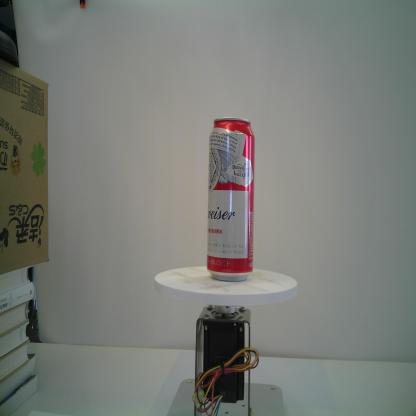Alcohol: (206, 117, 256, 282)
